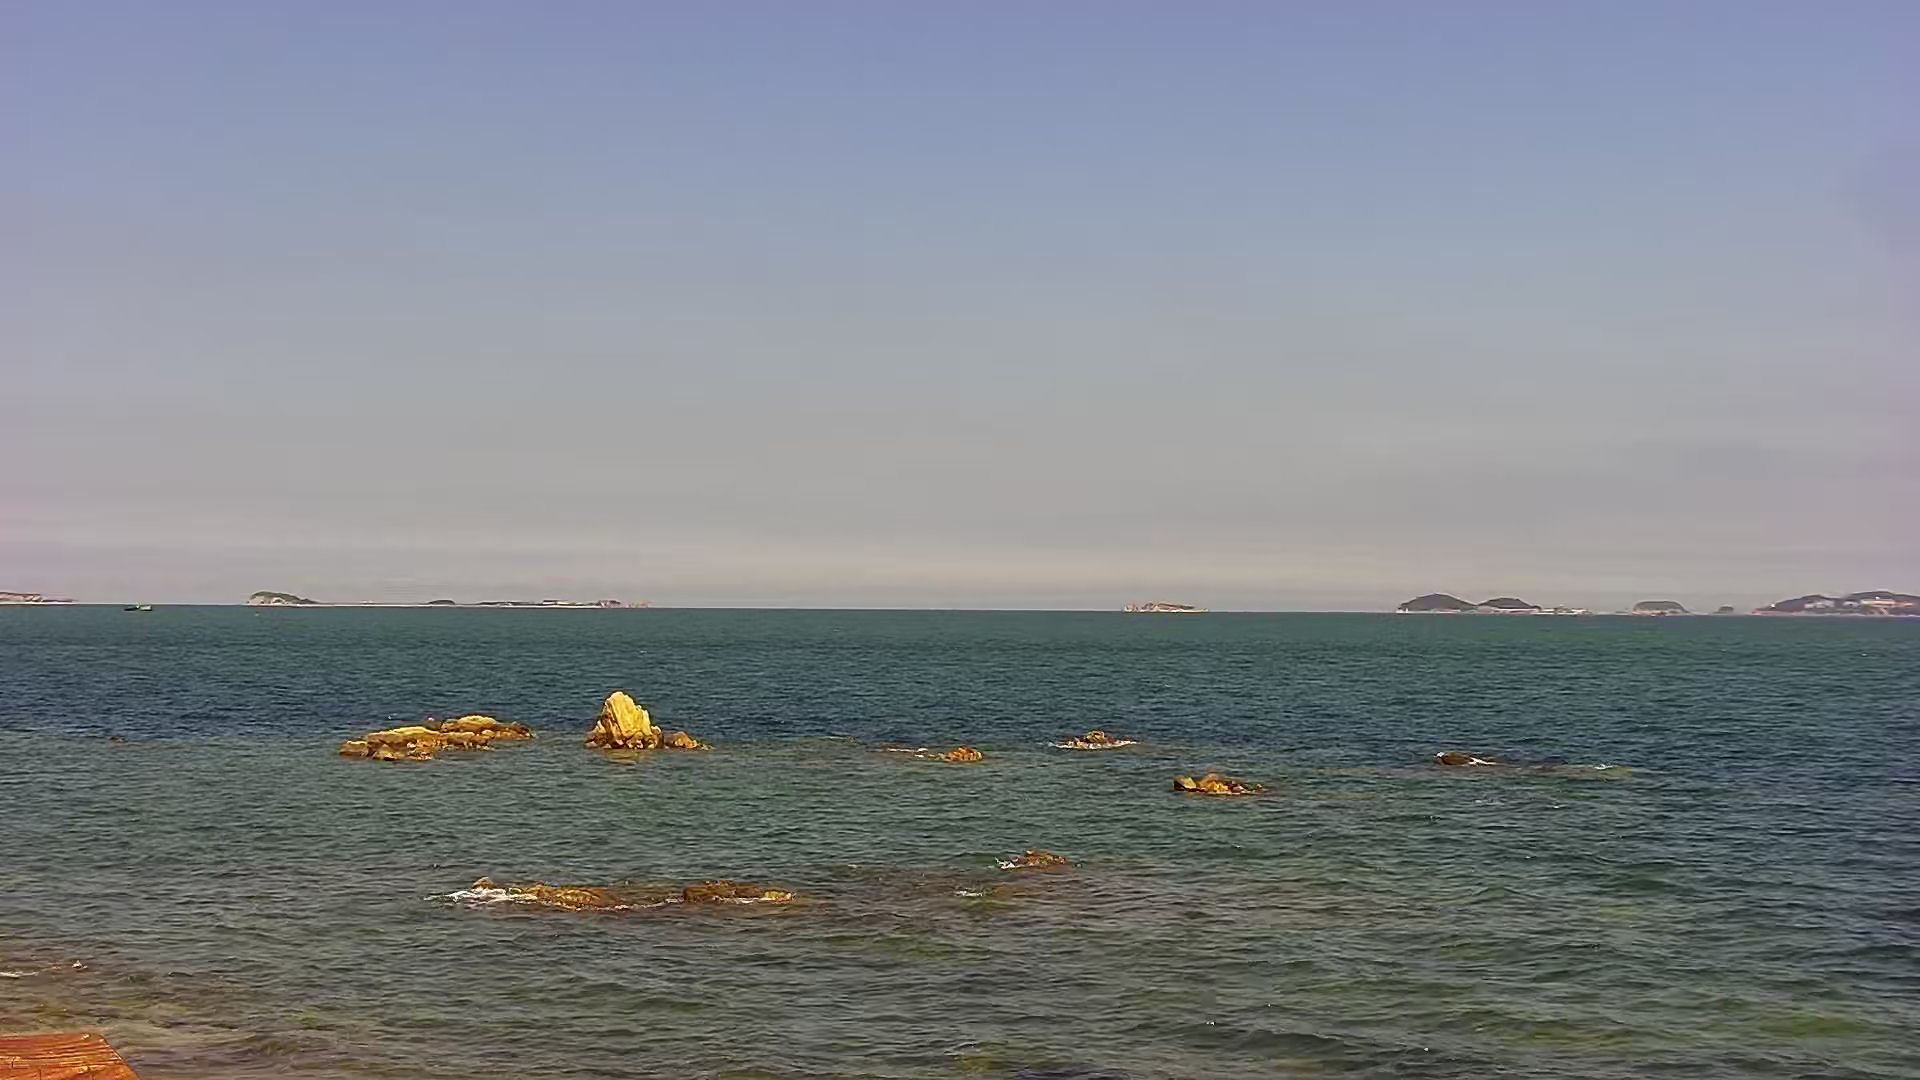boat: (117, 599, 173, 615)
rock: (313, 694, 551, 764), (583, 678, 725, 760), (1751, 566, 1920, 618), (496, 872, 665, 924), (1149, 760, 1288, 815), (679, 865, 815, 922), (1411, 735, 1538, 785), (986, 833, 1106, 885), (1048, 713, 1151, 767), (418, 589, 647, 612), (886, 728, 1000, 771), (1, 575, 98, 605), (1482, 578, 1563, 612), (229, 584, 332, 611), (1621, 589, 1704, 618), (1393, 591, 1489, 615), (1120, 593, 1211, 612), (1716, 593, 1749, 616)
